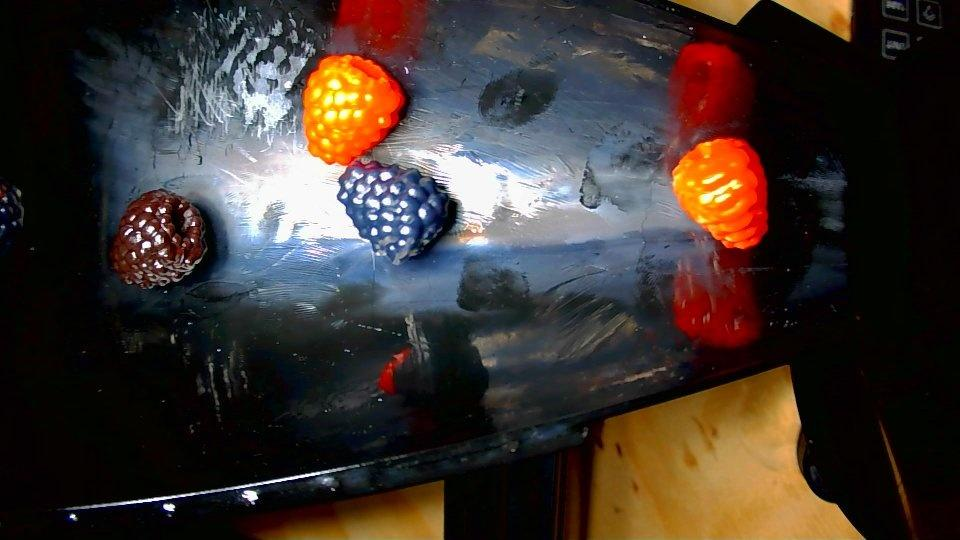berry: (337, 160, 449, 264), (302, 55, 405, 164), (673, 138, 767, 248), (109, 189, 206, 288), (0, 179, 23, 254)
